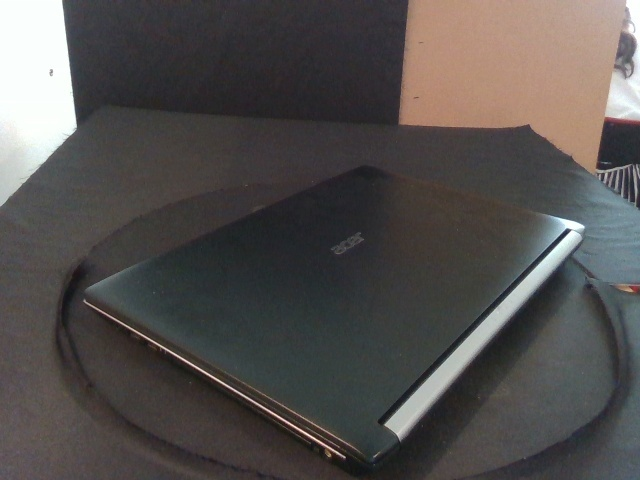laptop: (84, 164, 588, 479)
